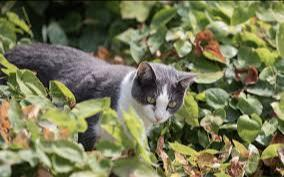Non_Gorille: (7, 24, 191, 154)
